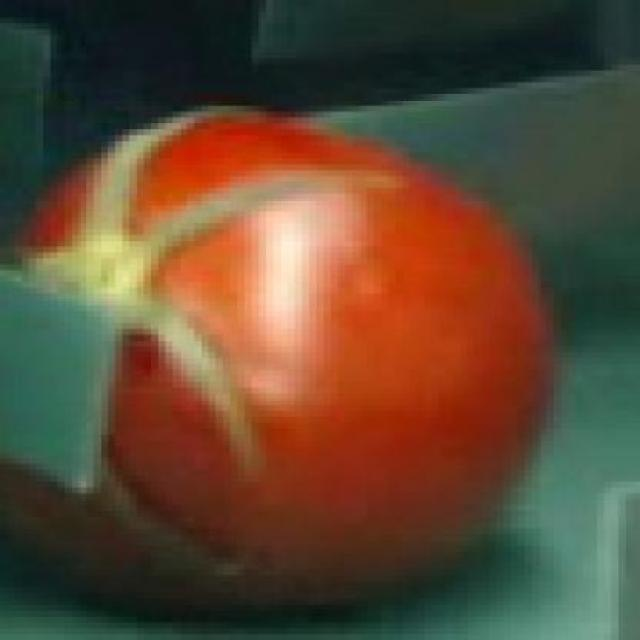tomato: (31, 109, 552, 603)
